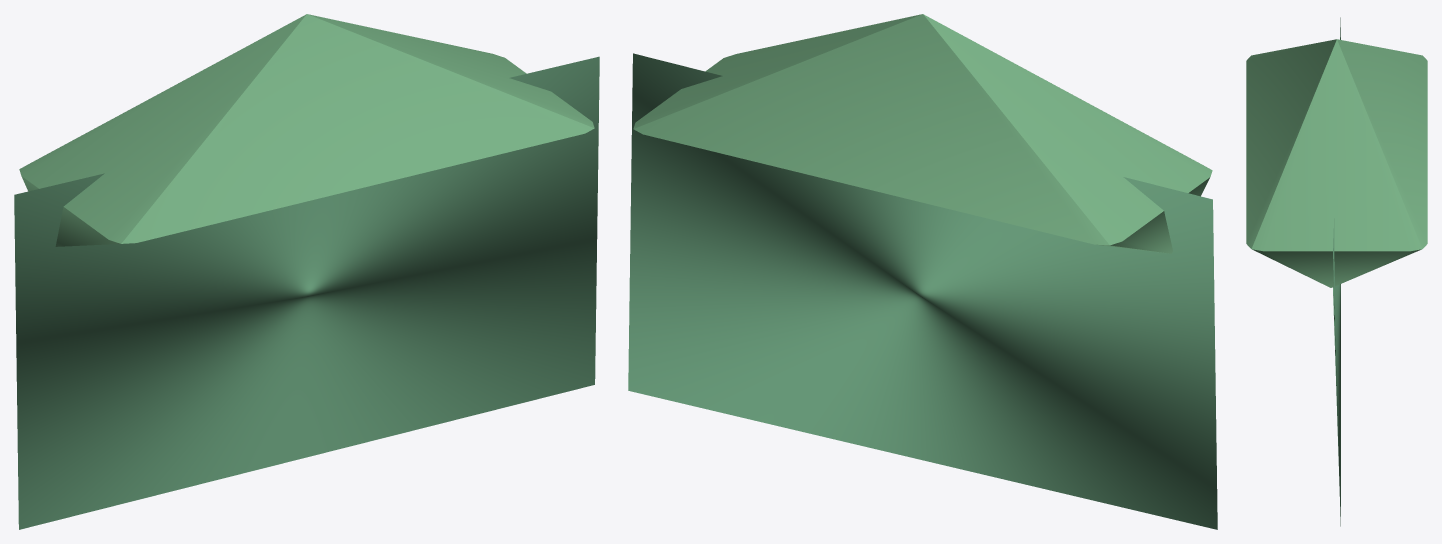
The model's file is SM_Kurpark_Hedge_LOD2.fbx.
3 views of the same model, side by side, from view 1: azimuth 30°, elevation 25°; view 2: azimuth 150°, elevation 25°; view 3: azimuth 270°, elevation 25° (orthographic). The views are drawn at different scales.
Parts seen in each view (by area): view 1: SM_Kurpark_Hedge_LOD2; view 2: SM_Kurpark_Hedge_LOD2; view 3: SM_Kurpark_Hedge_LOD2.
Part boxes in pixels (bbox=[...]): SM_Kurpark_Hedge_LOD2: bbox=[14, 14, 599, 529]; SM_Kurpark_Hedge_LOD2: bbox=[628, 14, 1217, 529]; SM_Kurpark_Hedge_LOD2: bbox=[1246, 17, 1427, 526].
Bounding box in the file's own units: 2.64 × 1.93 × 0.85.
